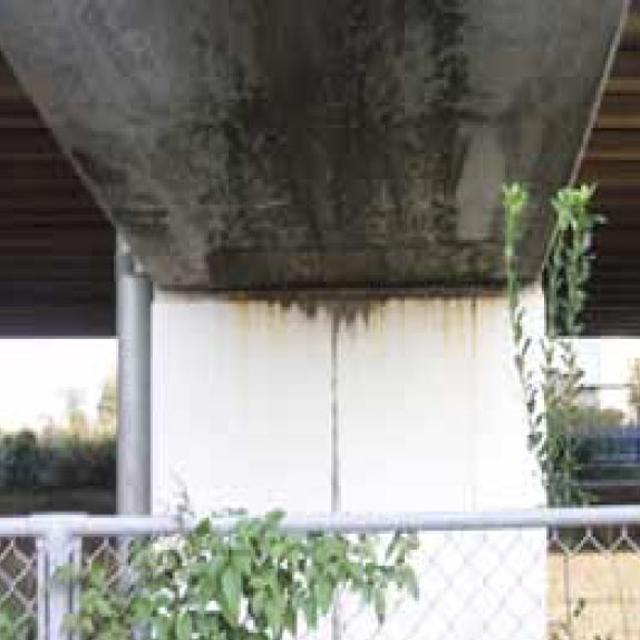leakage: (204, 266, 526, 326)
